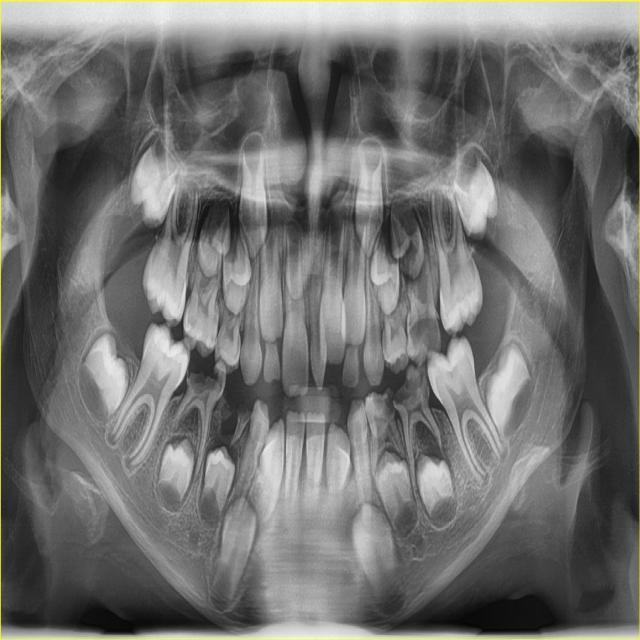72: (226, 403, 255, 451), (207, 395, 238, 429)
Sterngold Implant: (404, 315, 444, 363), (182, 362, 228, 403), (392, 365, 429, 411), (370, 389, 397, 420), (180, 312, 202, 336), (442, 363, 464, 381), (158, 352, 175, 368), (214, 335, 222, 361), (209, 331, 216, 348)
